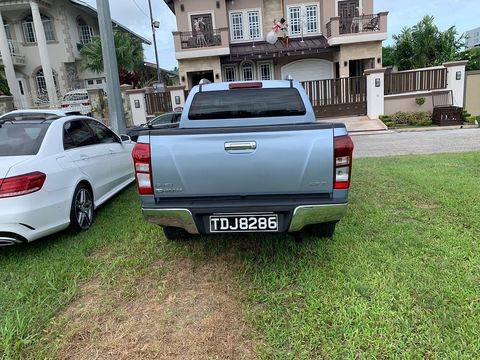License-Plate: (210, 216, 277, 231)
